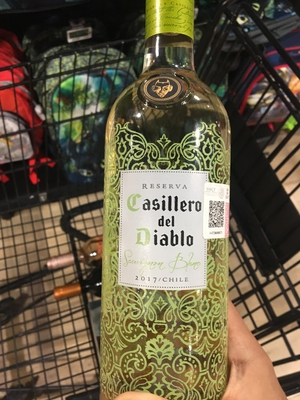casillero del diablo sauvignon blanc: (93, 8, 244, 400)
